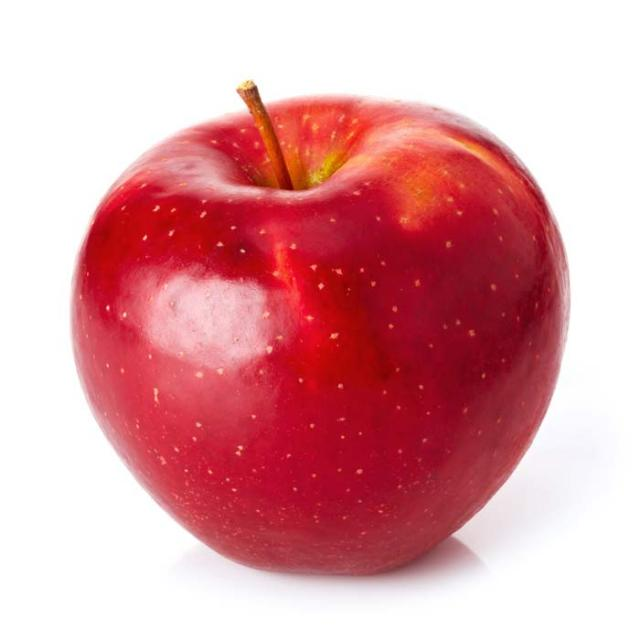Apple: (74, 76, 572, 585)
